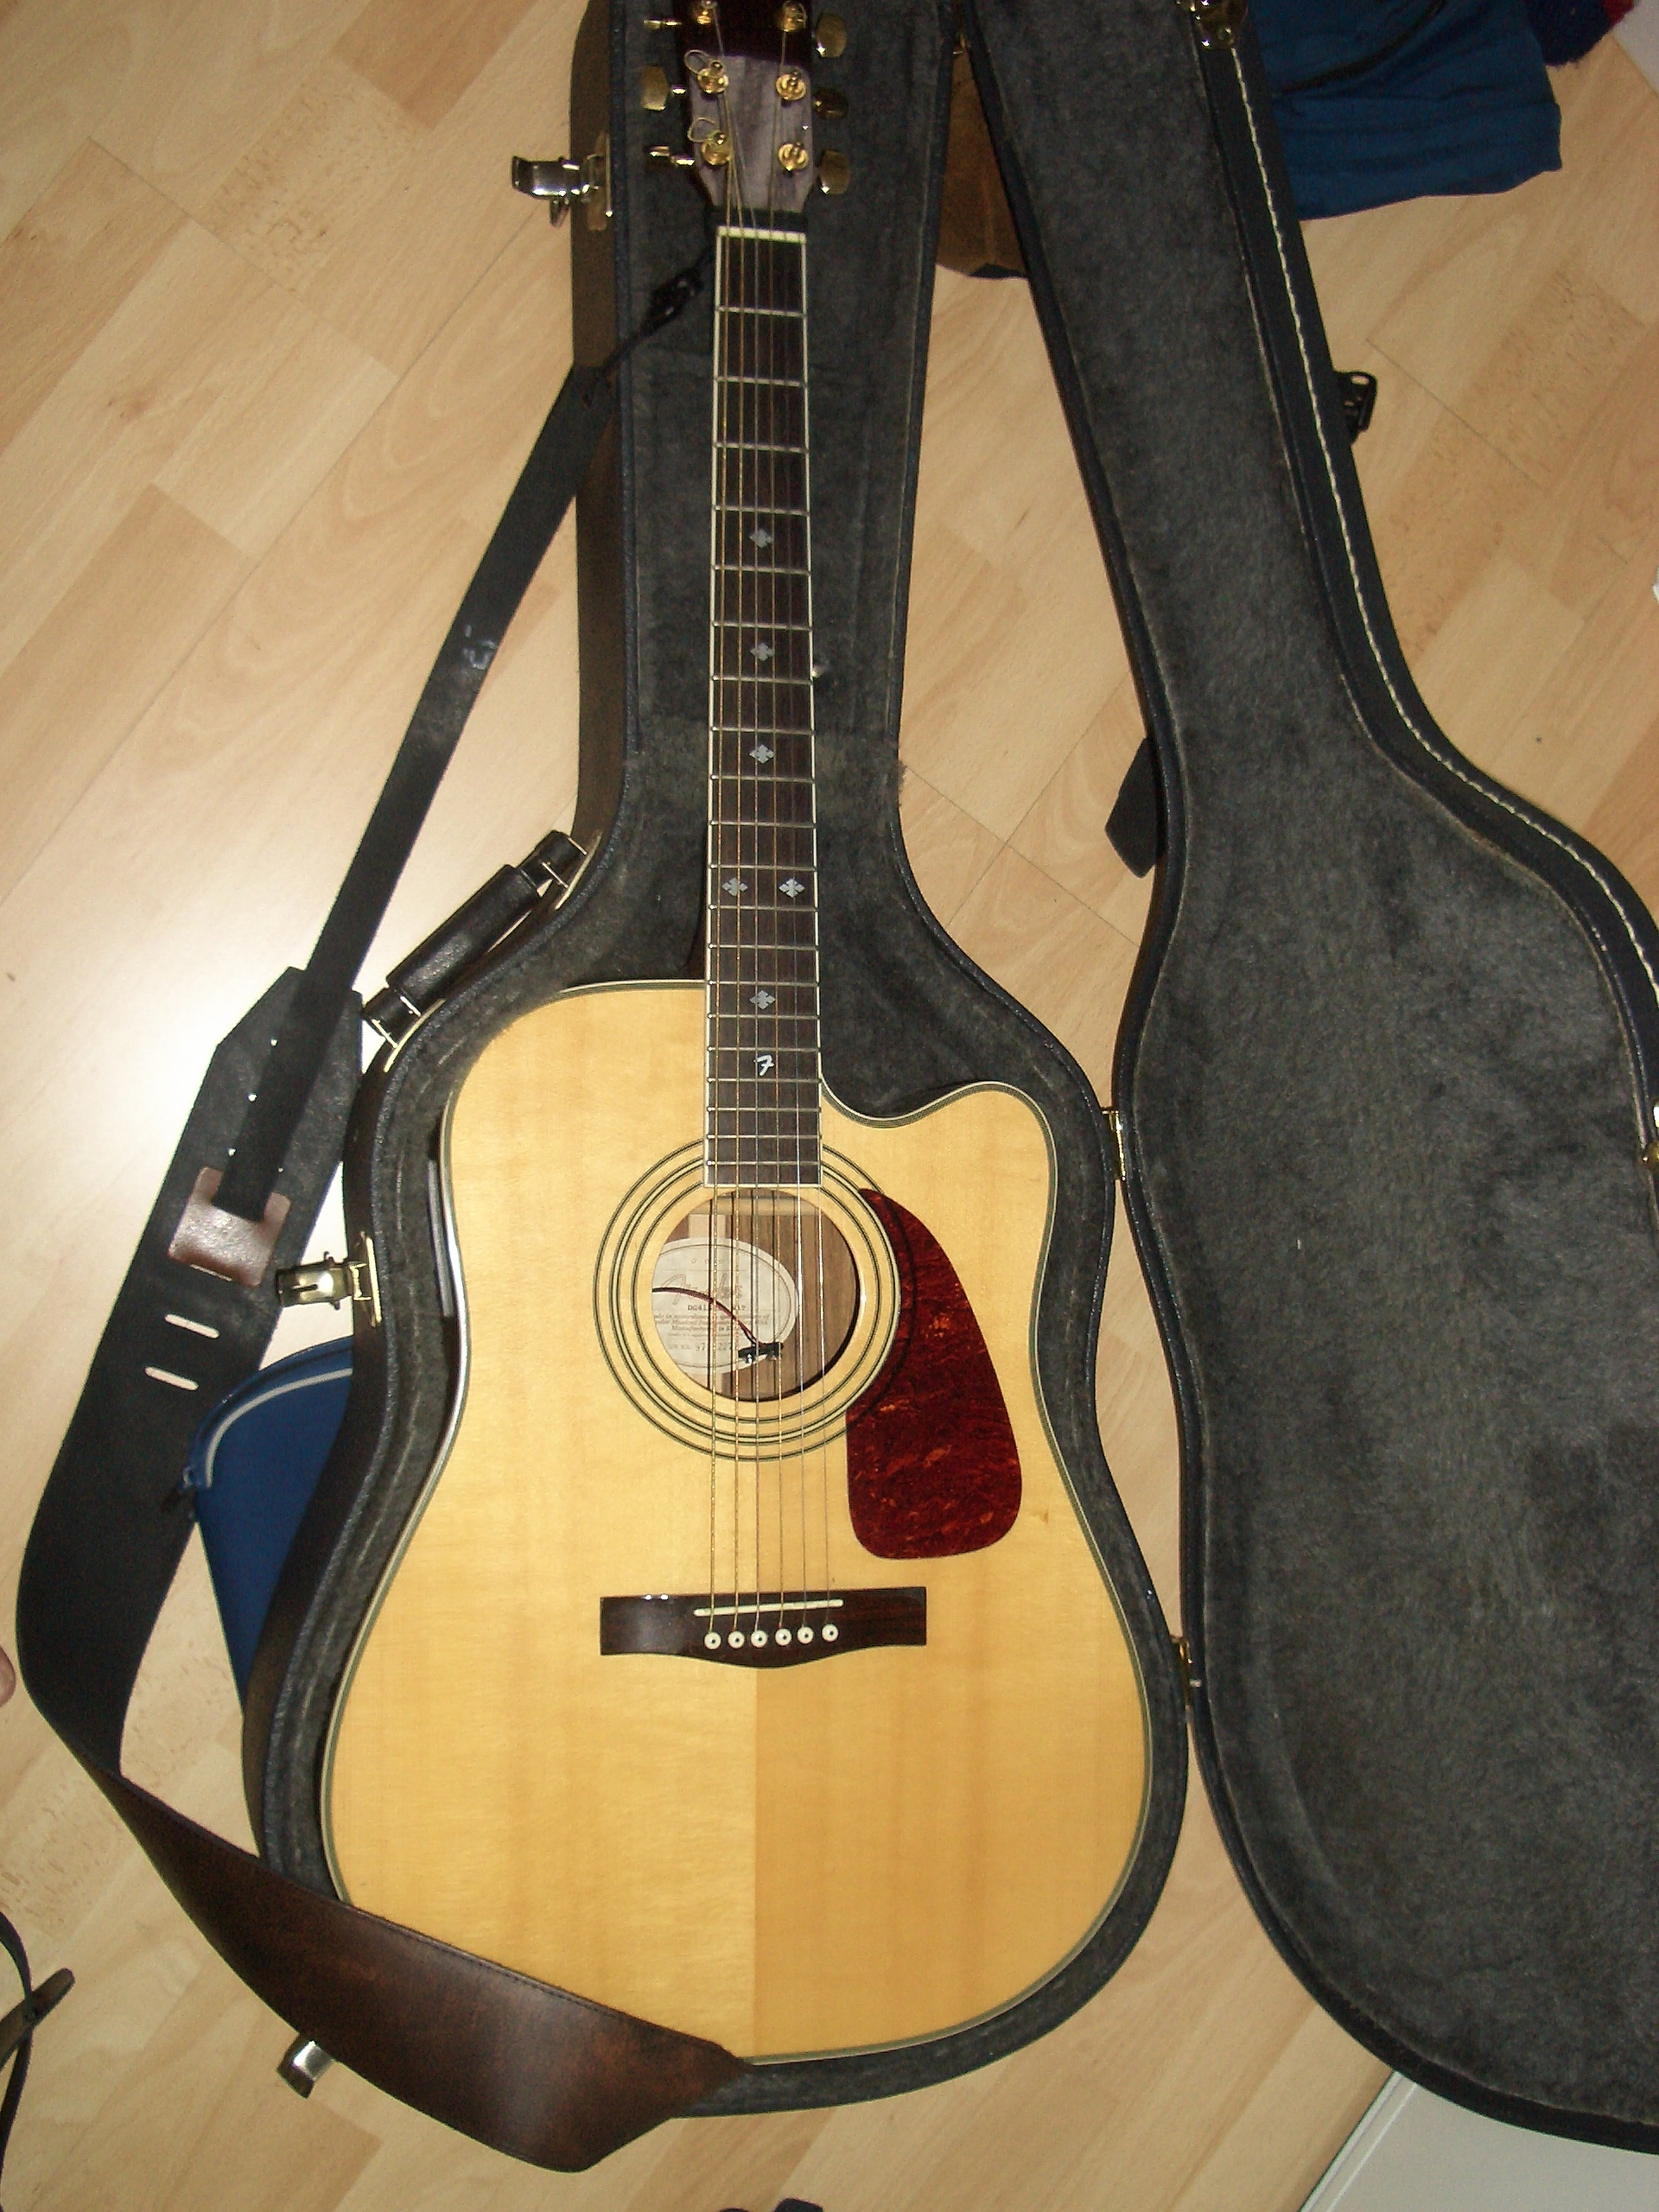guitar: (260, 0, 1171, 2050)
